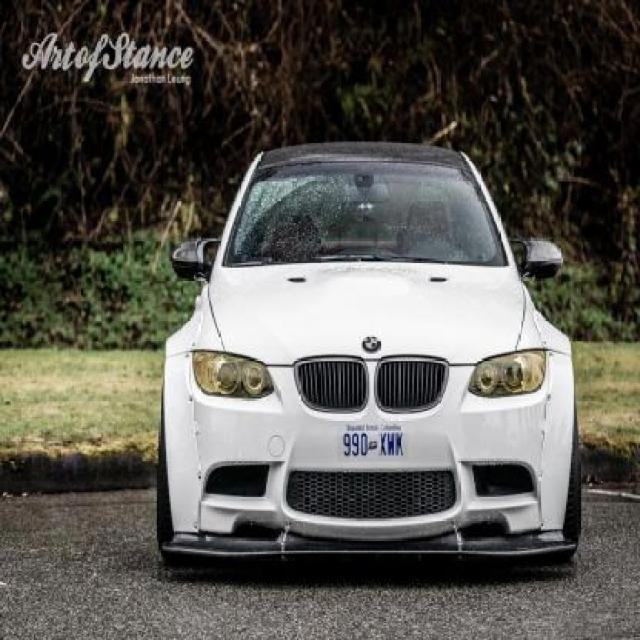License-Plates: (336, 422, 408, 462)
